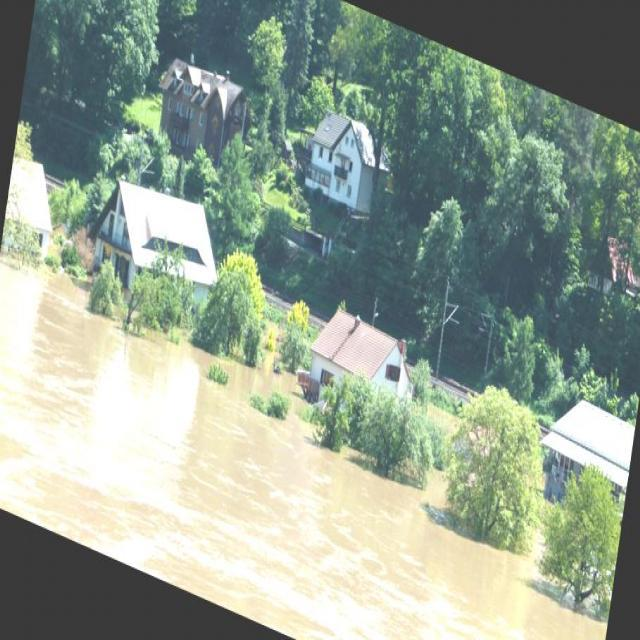flood: (0, 238, 623, 639)
